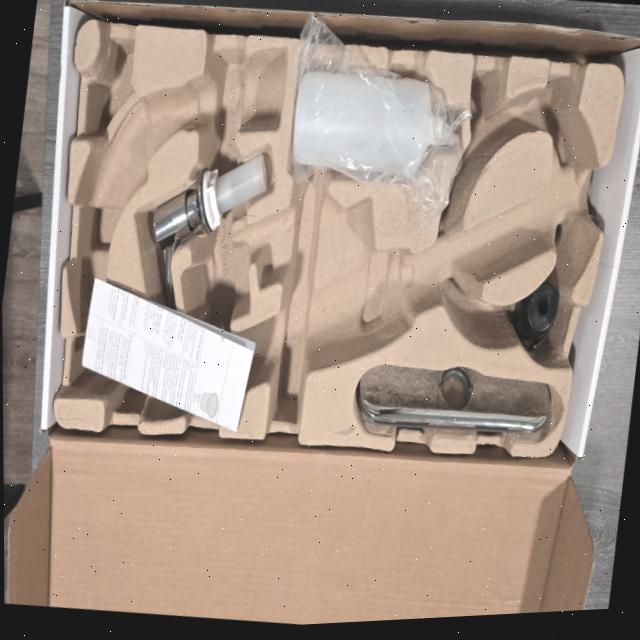1m: (73, 48, 608, 418)
2o: (150, 150, 268, 333)
3: (292, 73, 459, 182)
4: (357, 363, 551, 433)
5: (515, 282, 560, 358)
6m: (528, 75, 591, 160)
7m: (453, 69, 514, 205)
8: (81, 275, 255, 430)
